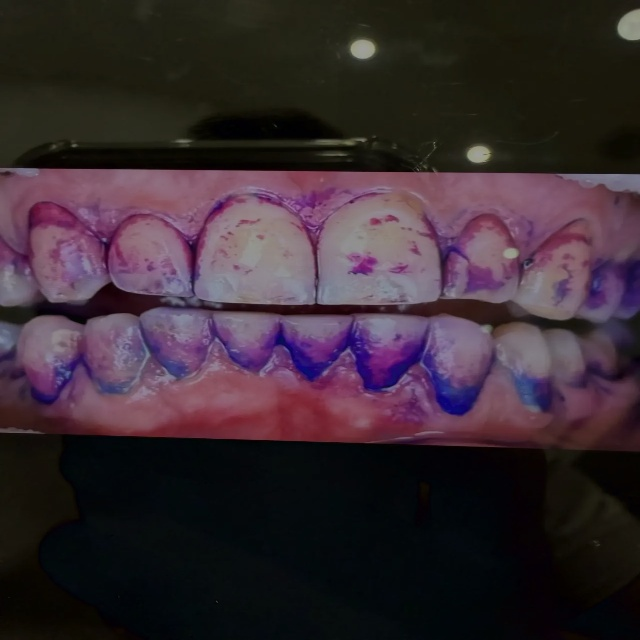plaque: (0, 185, 629, 413), (425, 178, 568, 293), (555, 199, 639, 347), (347, 253, 378, 274)
